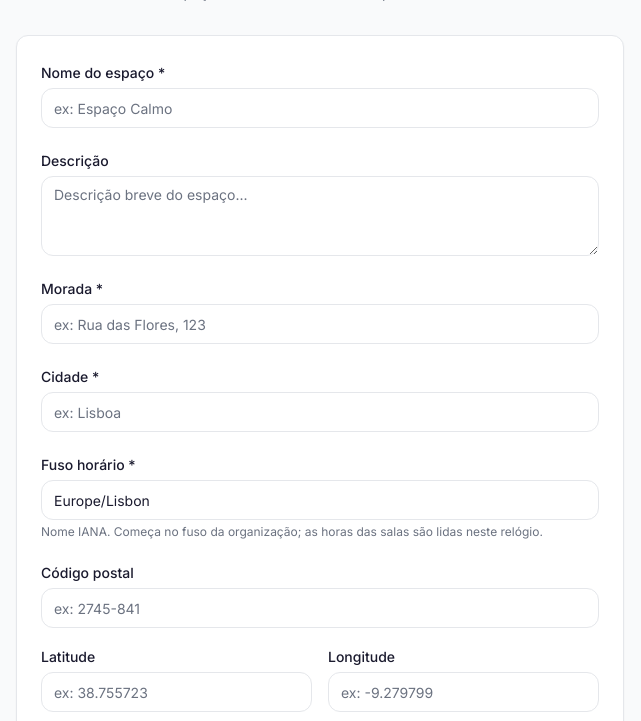
Scenario: new space form — location › refuses a malformed postcode inline
The image size is (641, 721).
In the field labelled "Nome do espaço *": (320, 108) [41,88,599,128], type "Espaço Calmo"
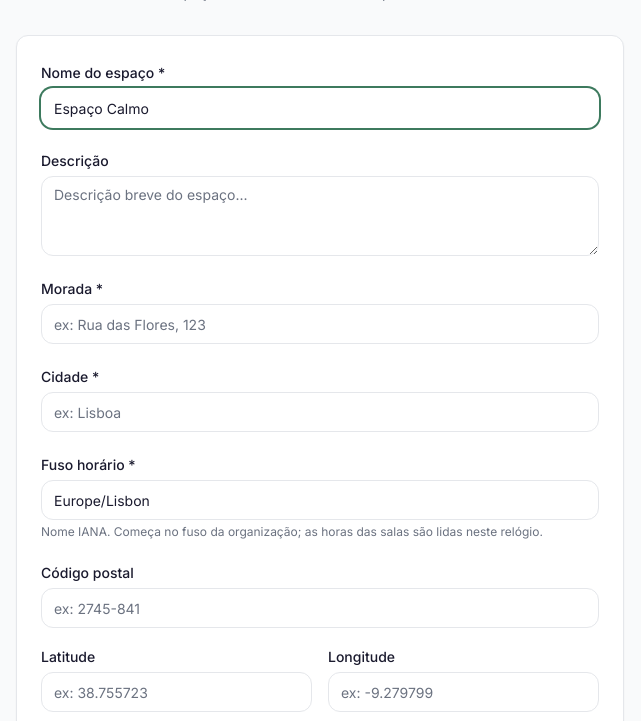
In the field labelled "Morada *": (320, 324) [41,304,599,344], type "R. 12 de Julho de 1997 5, Loja 1"
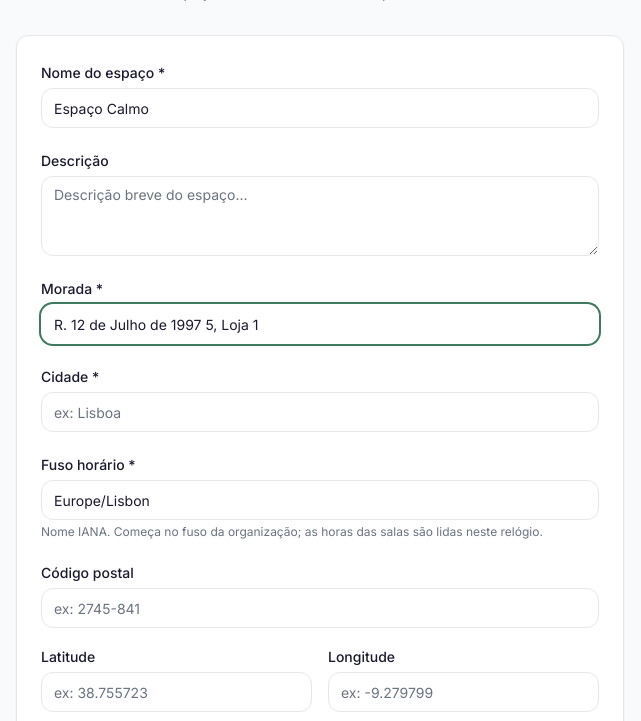
In the field labelled "Cidade *": (320, 412) [41,392,599,432], type "Queluz"
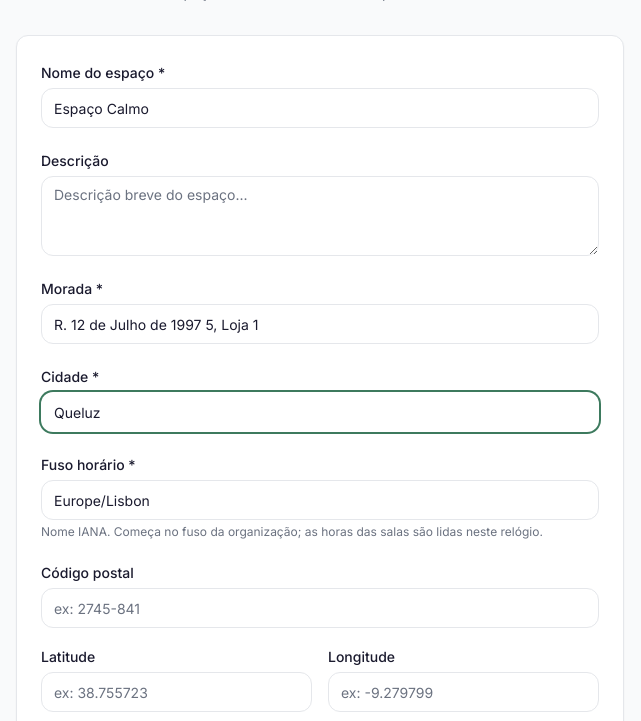
In the field labelled "Código postal": (320, 608) [41,588,599,628], type "27458"
(page scrolled)
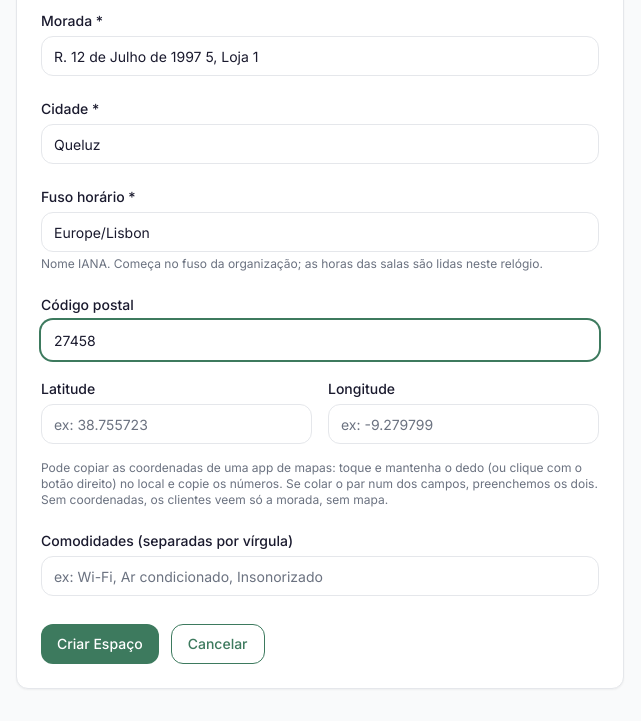
Click the button "Criar Espaço": click(100, 644) [41,624,159,664]
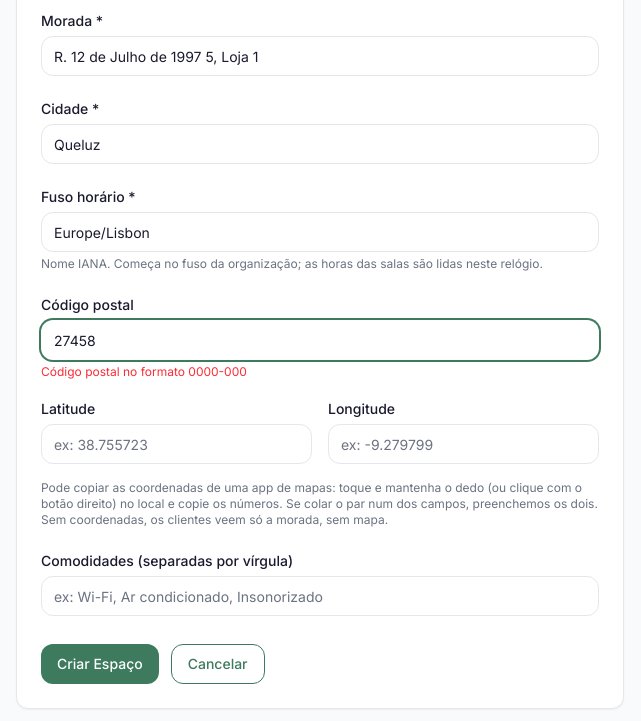
Now the message "Código postal no formato 0000-000" is shown, box [41,364,247,379]
